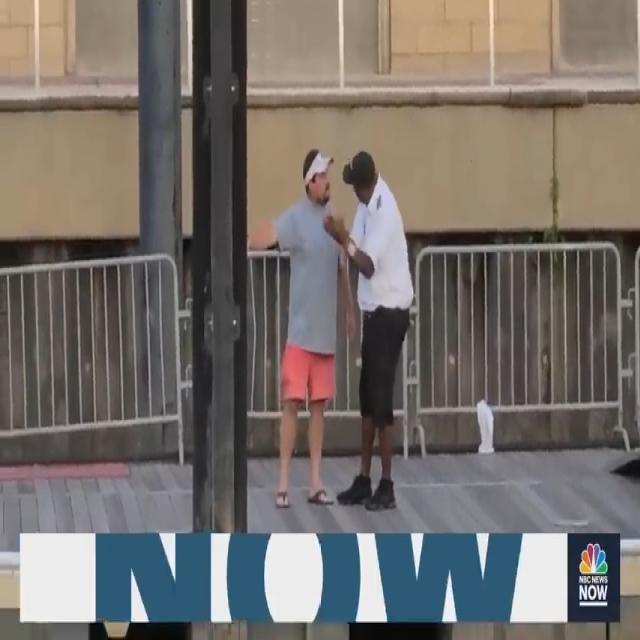non-fight: (248, 140, 415, 514)
